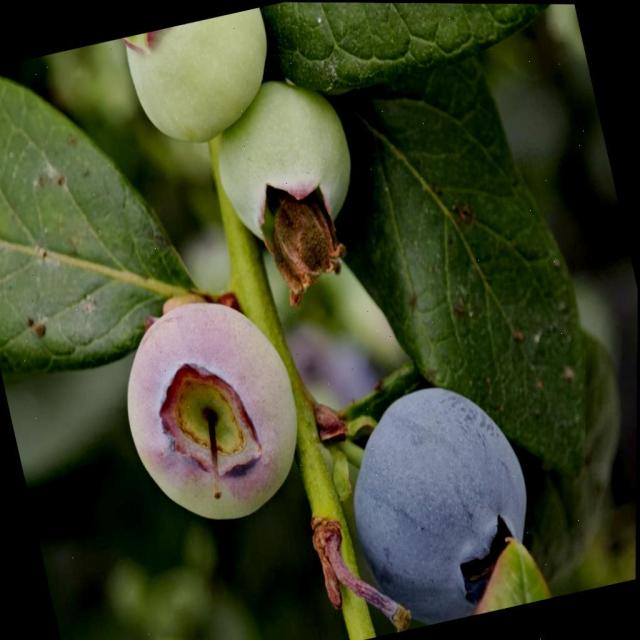RipeBlueBerry: (326, 365, 556, 637)
Semi-RipeBlueBerry: (104, 282, 324, 544)
UnripeBlueBerry: (198, 59, 376, 281)
